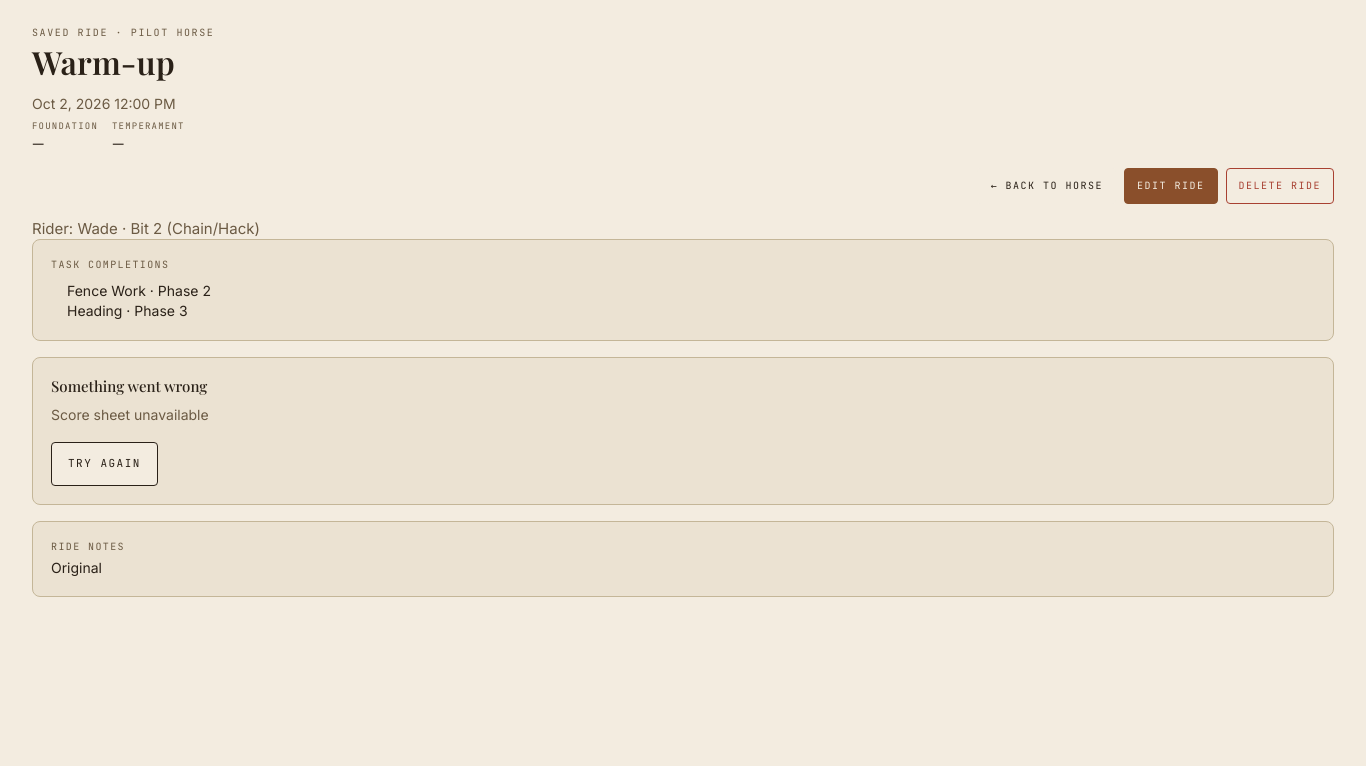
Test: question loading errors cannot clear the saved rating set
Click the button "Edit ride" at coordinates (1171, 186), box [1124,168,1218,204]
(page scrolled)
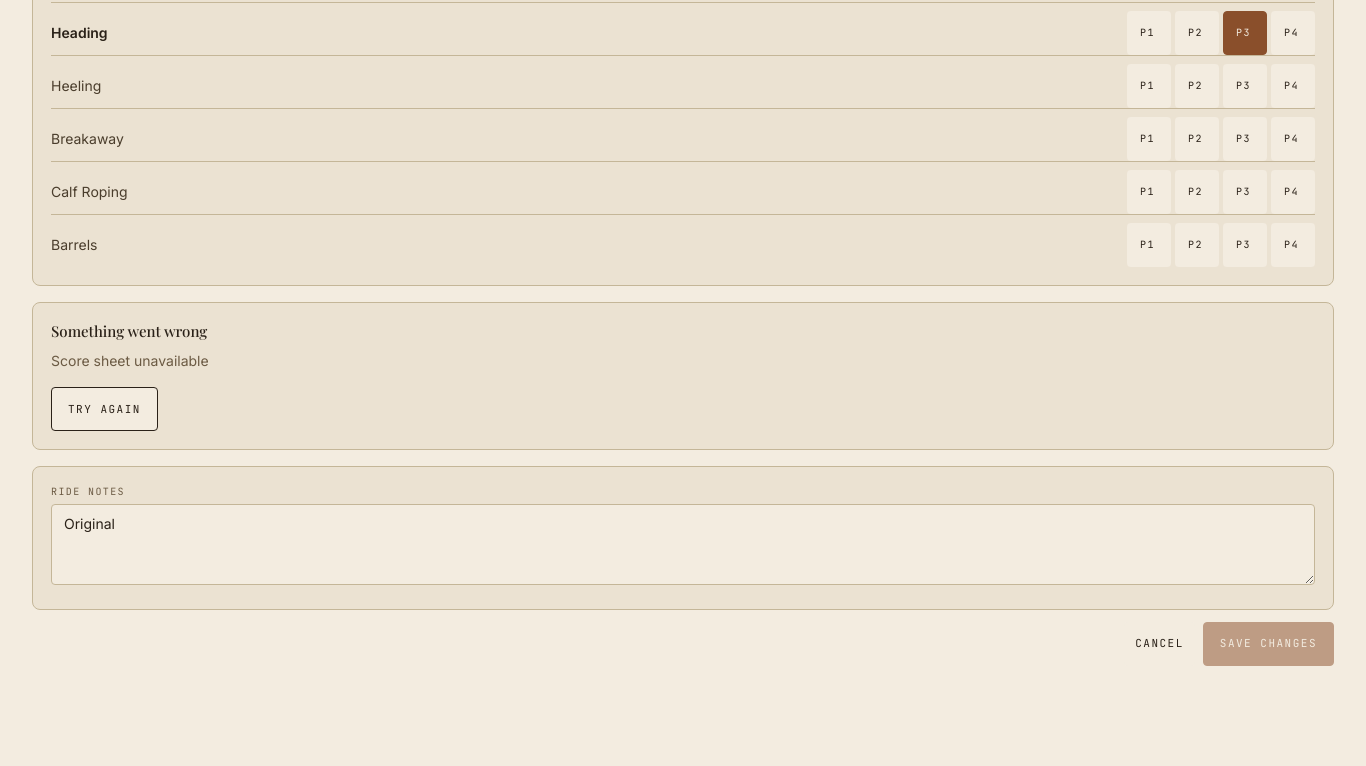
Expected: the message shows "Score sheet unavailable", [51,352,209,369]
Expected: the button "Save changes" is disabled, [1203,622,1334,666]
